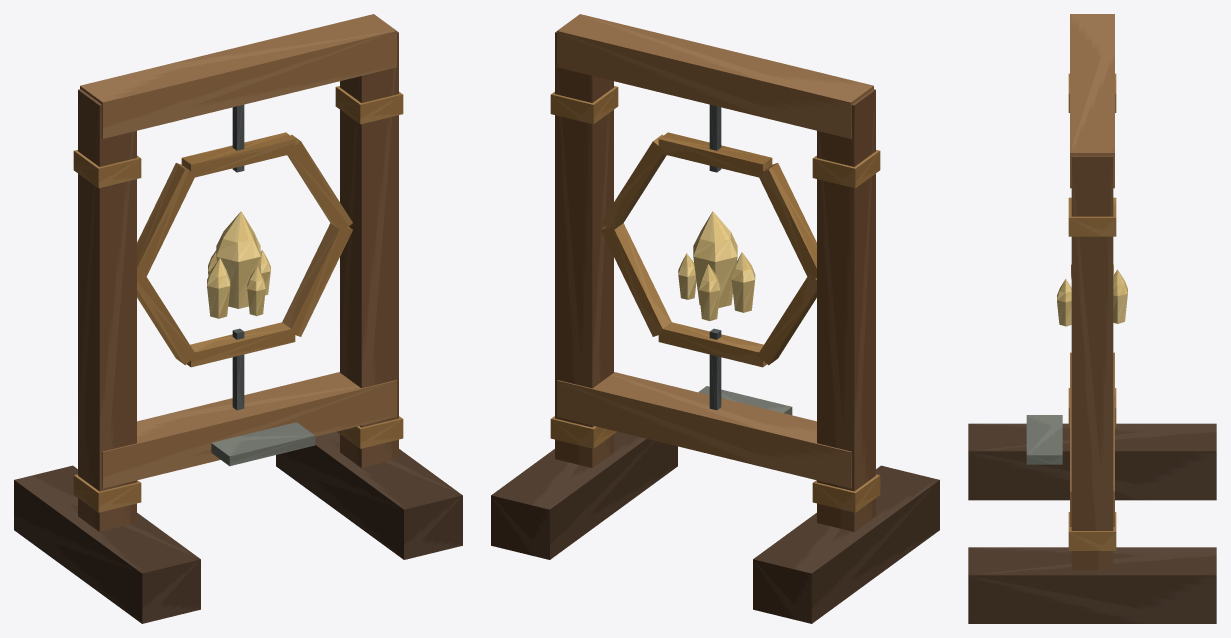
The model's file is earth-resonance-frame.glb.
The picture shows the model from 3 angles, left to right: view 1: azimuth 30°, elevation 25°; view 2: azimuth 150°, elevation 25°; view 3: azimuth 270°, elevation 25°; orthographic projection. The views are drawn at different scales.
Parts seen in each view (by area): view 1: resonance-frame; view 2: resonance-frame; view 3: resonance-frame.
Boxes of the visible parts, left/top/right/bottom form: resonance-frame: left=14, top=14, right=462, bottom=623; resonance-frame: left=491, top=14, right=939, bottom=623; resonance-frame: left=968, top=14, right=1216, bottom=623.
Size of the model in its own units: 1.2 by 1.72 by 0.83.
Materials: 1 (1 with a texture image).
